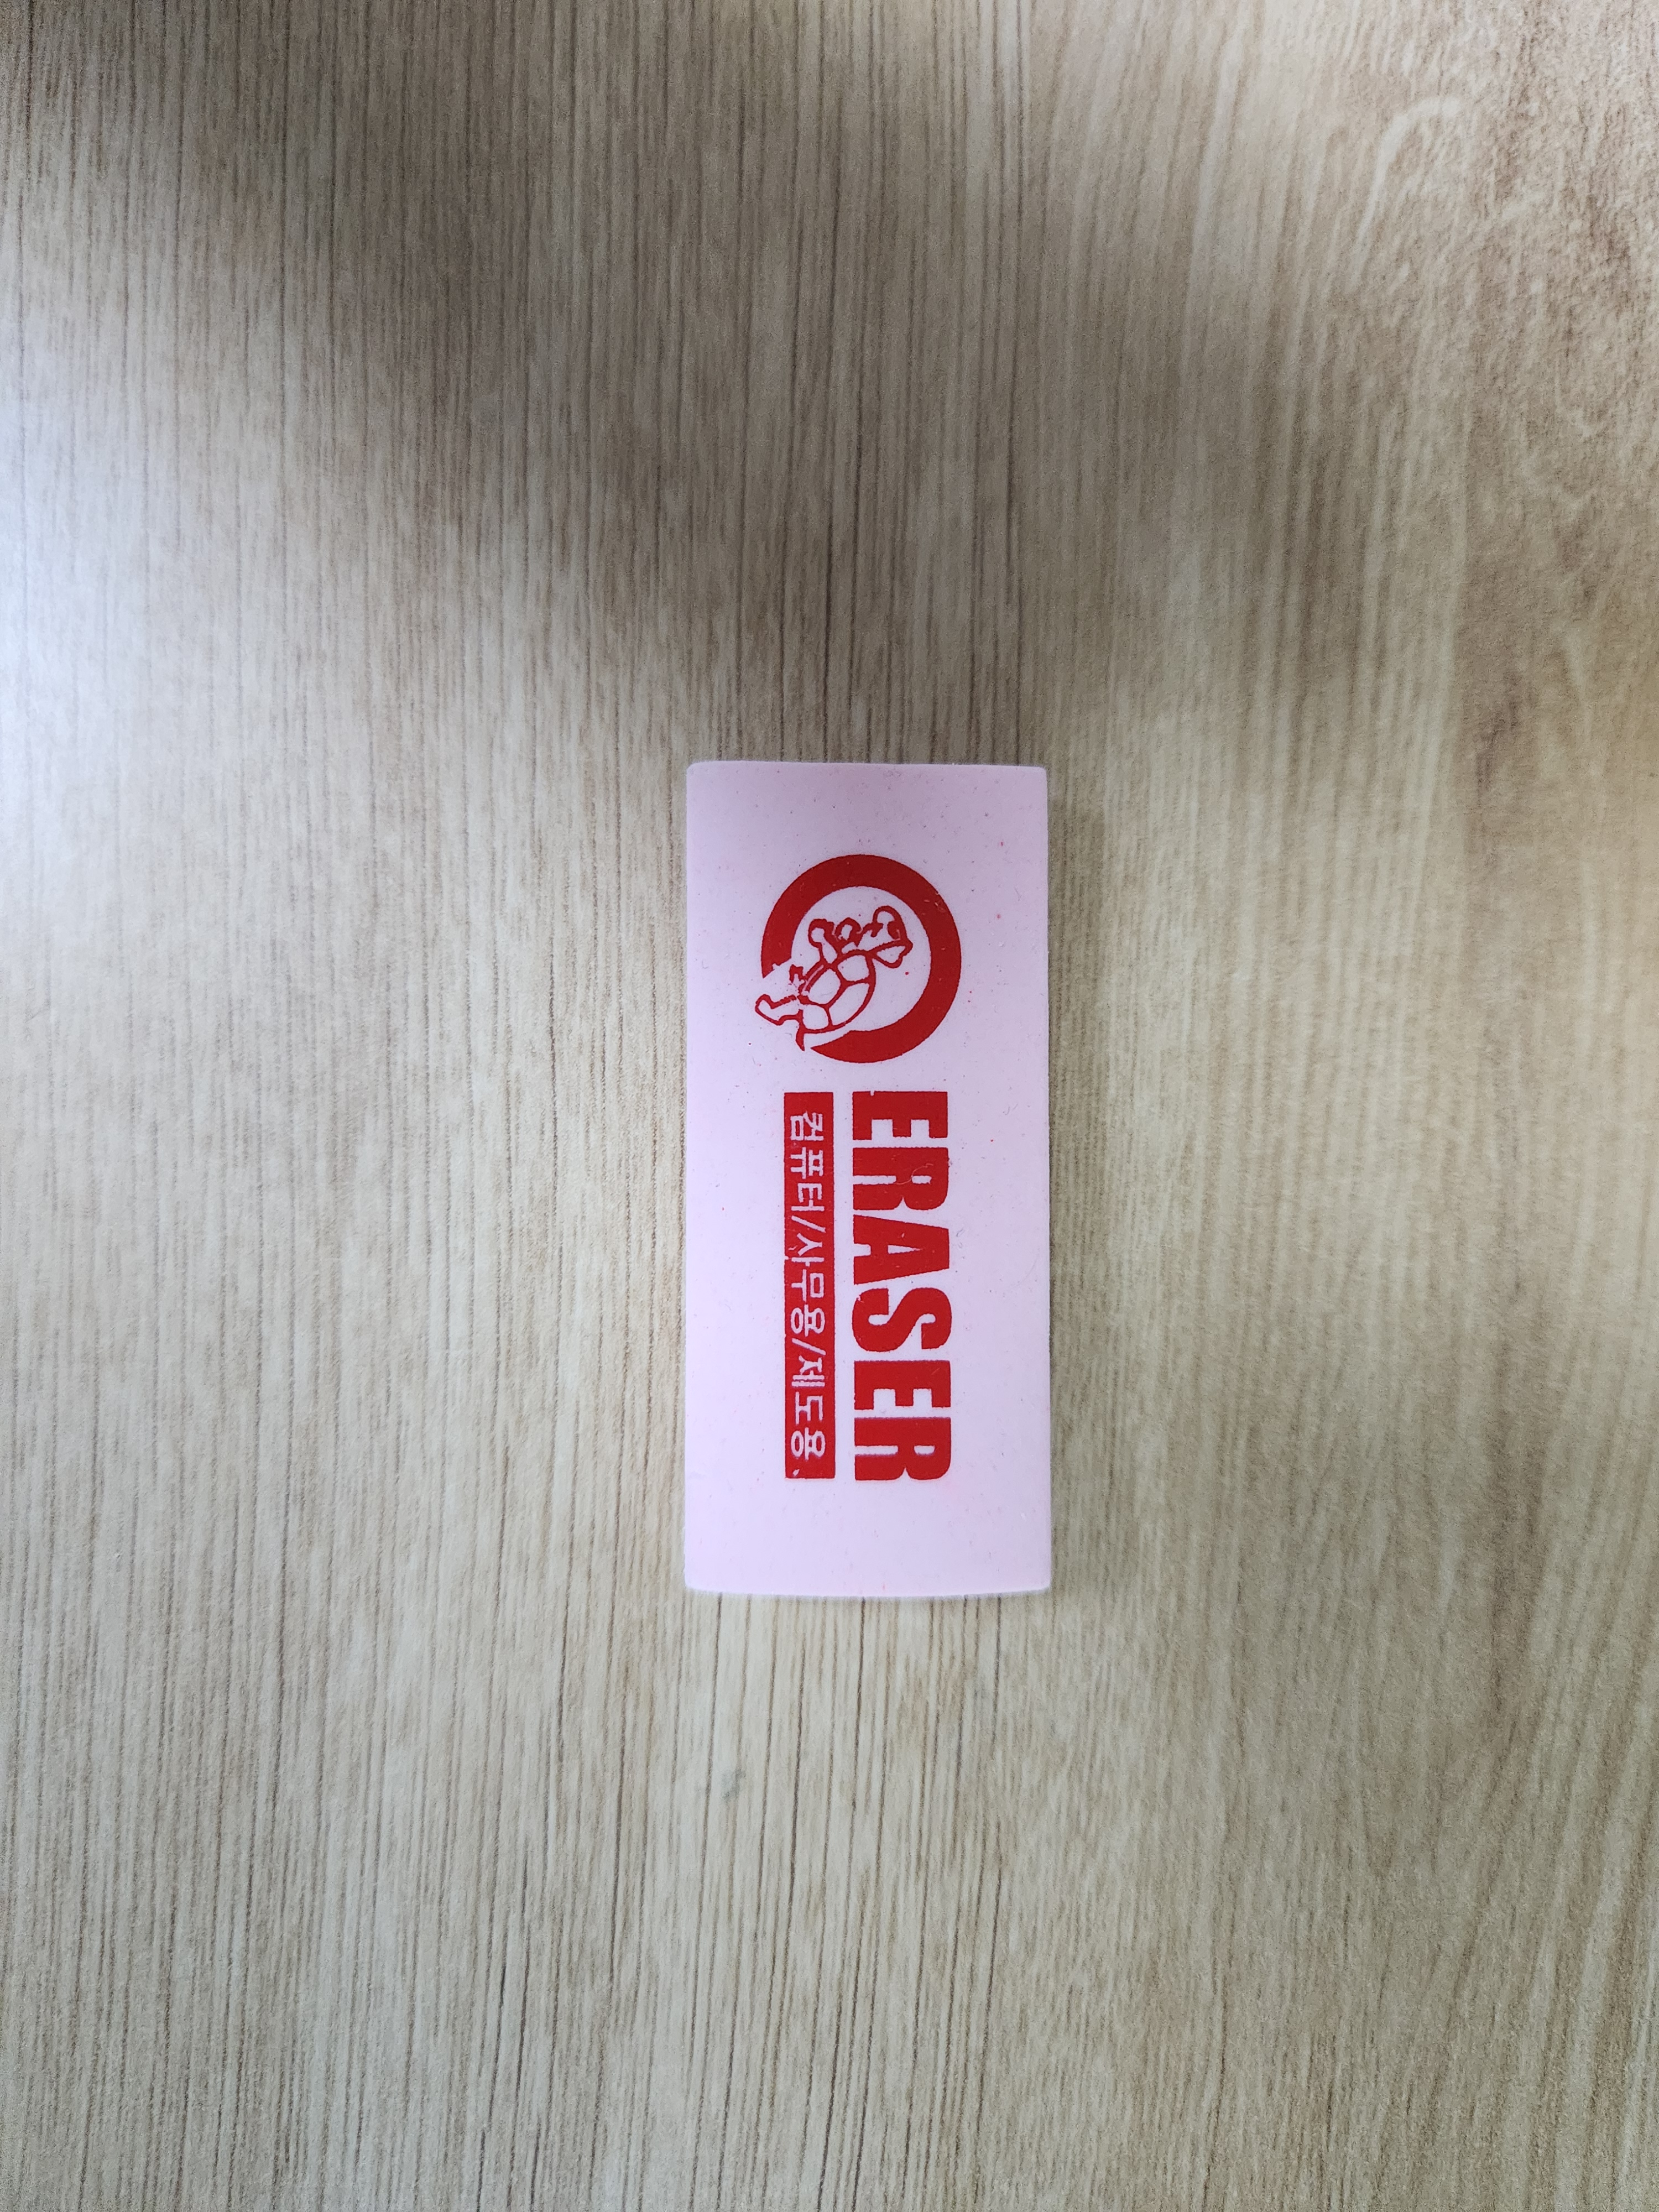good: (572, 808, 1197, 1298)
